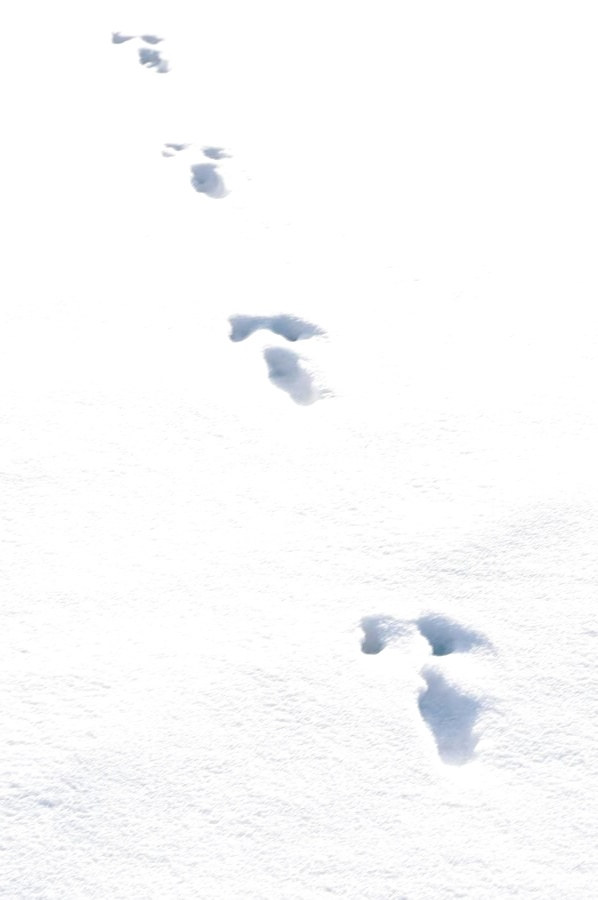rabbit: (325, 593, 530, 788), (201, 282, 353, 430)
